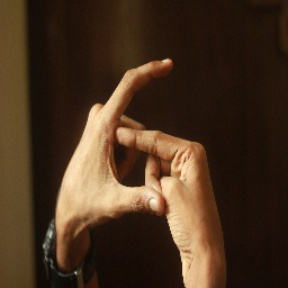E: (91, 46, 186, 216)
